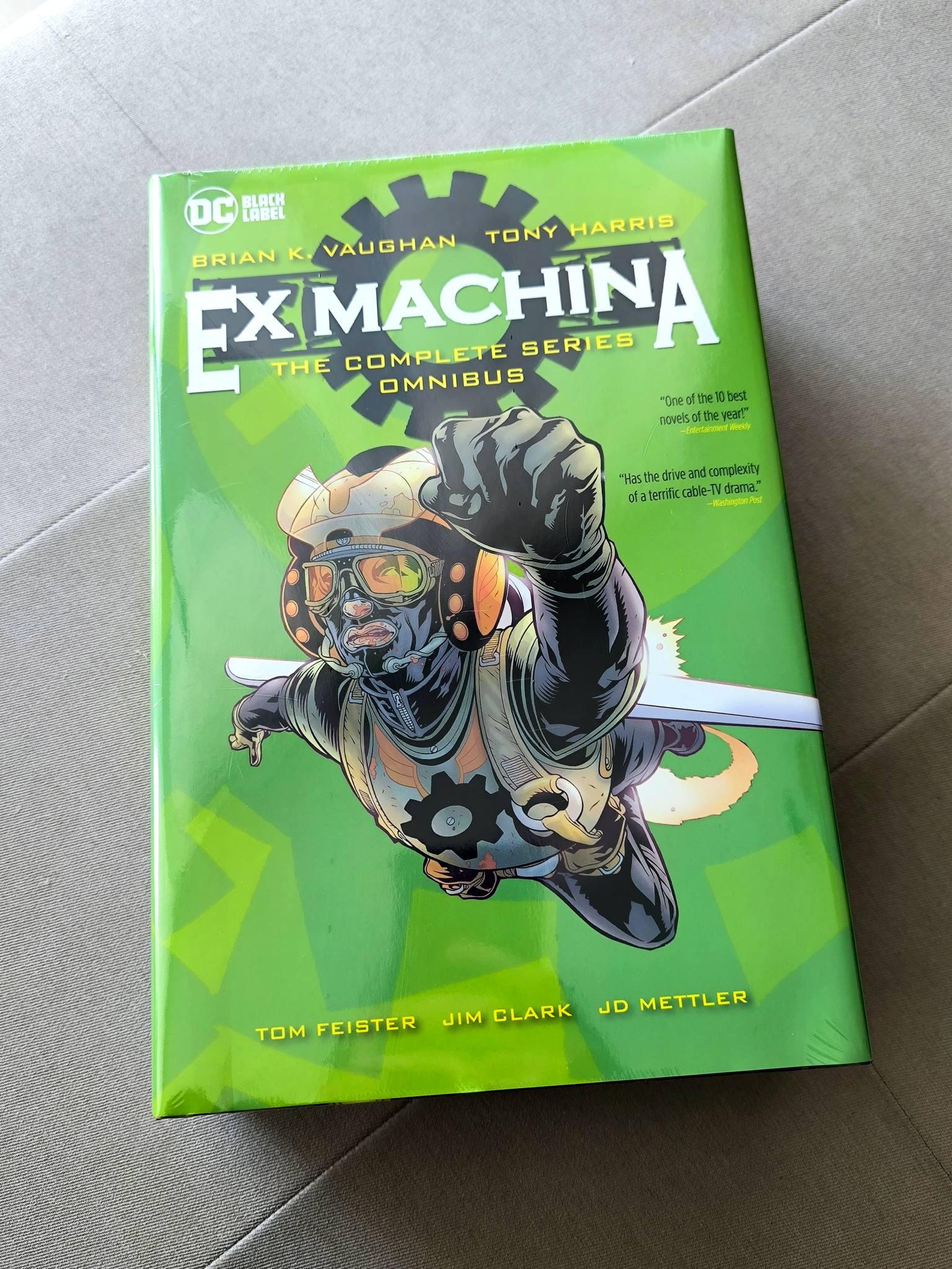comic: (80, 125, 868, 1117)
